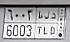0: (18, 14, 26, 37), (12, 13, 19, 38)
3: (25, 9, 34, 37)
6: (6, 8, 13, 39)
D: (50, 11, 57, 35)
L: (43, 10, 49, 35)
T: (36, 10, 44, 36)
